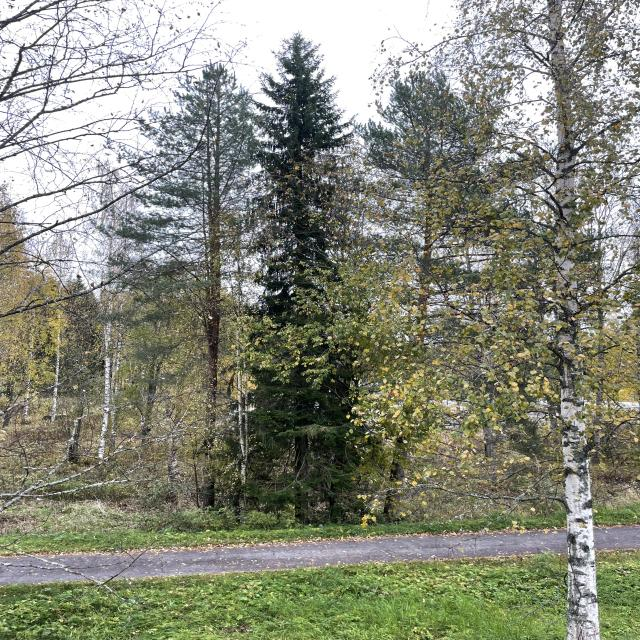spruce: (201, 17, 401, 538)
